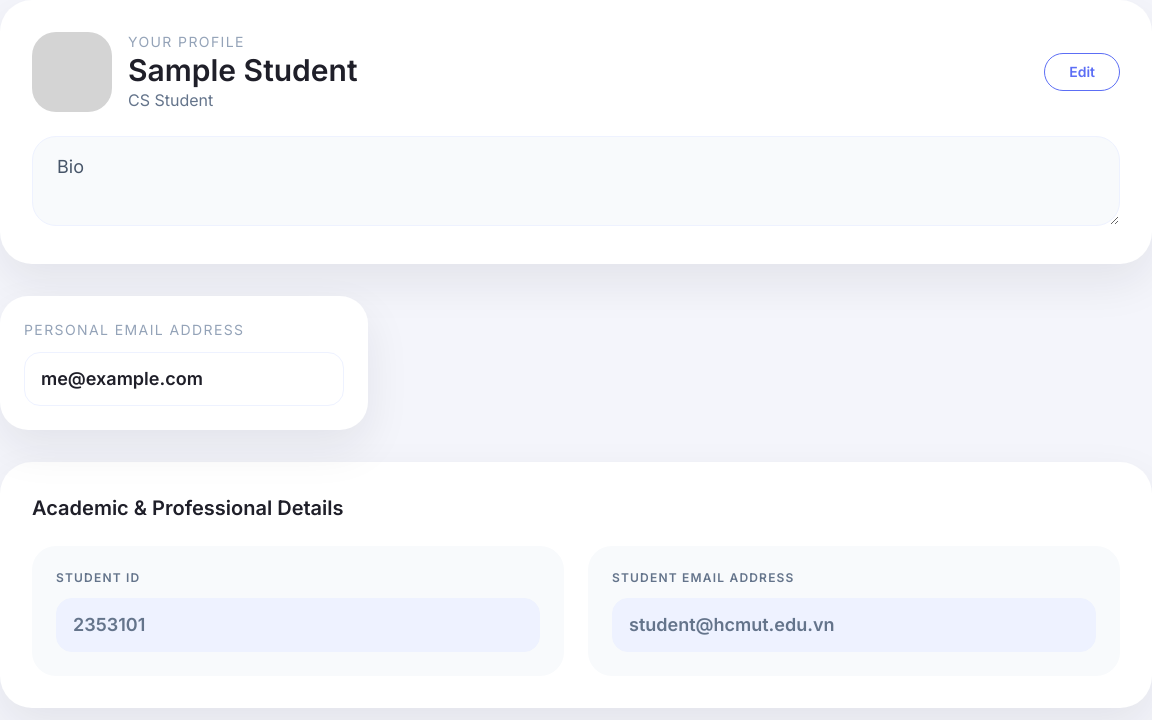
Test case: ProfilePage (Profile Management GUI) › enters edit mode when the user clicks Edit
Click the button "Edit".
click(1082, 72)  # box [1044,53,1120,91]
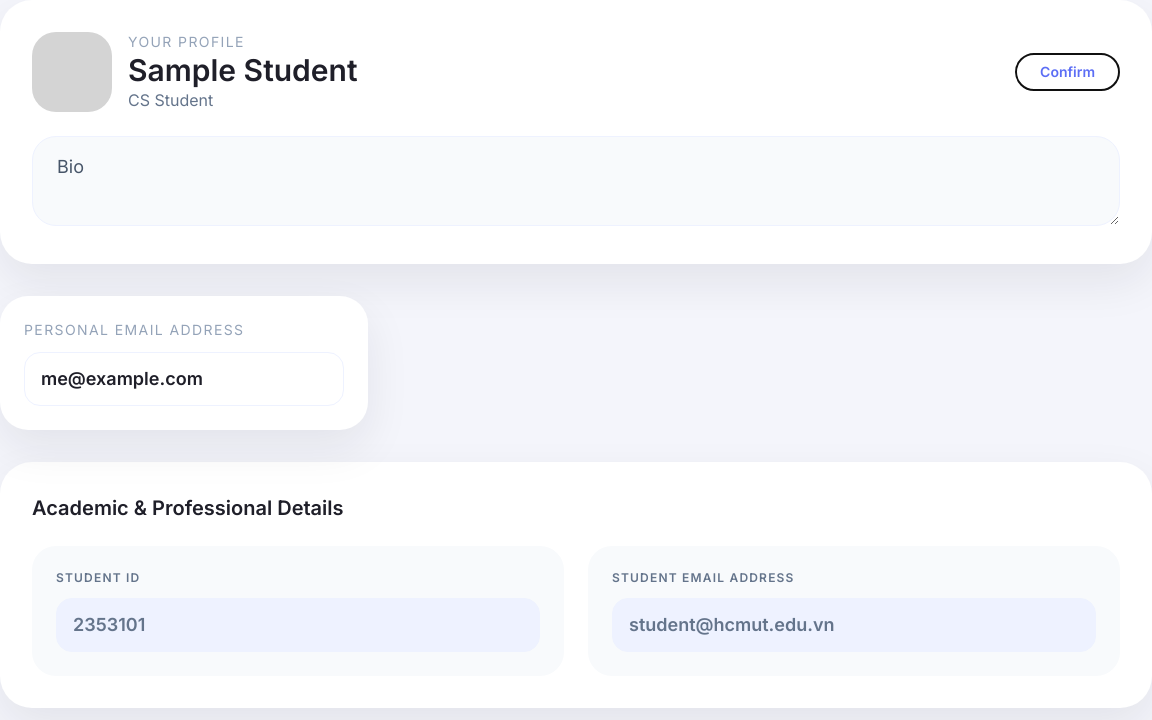
Check: the button "Confirm" is shown, box [1015,53,1120,91]
